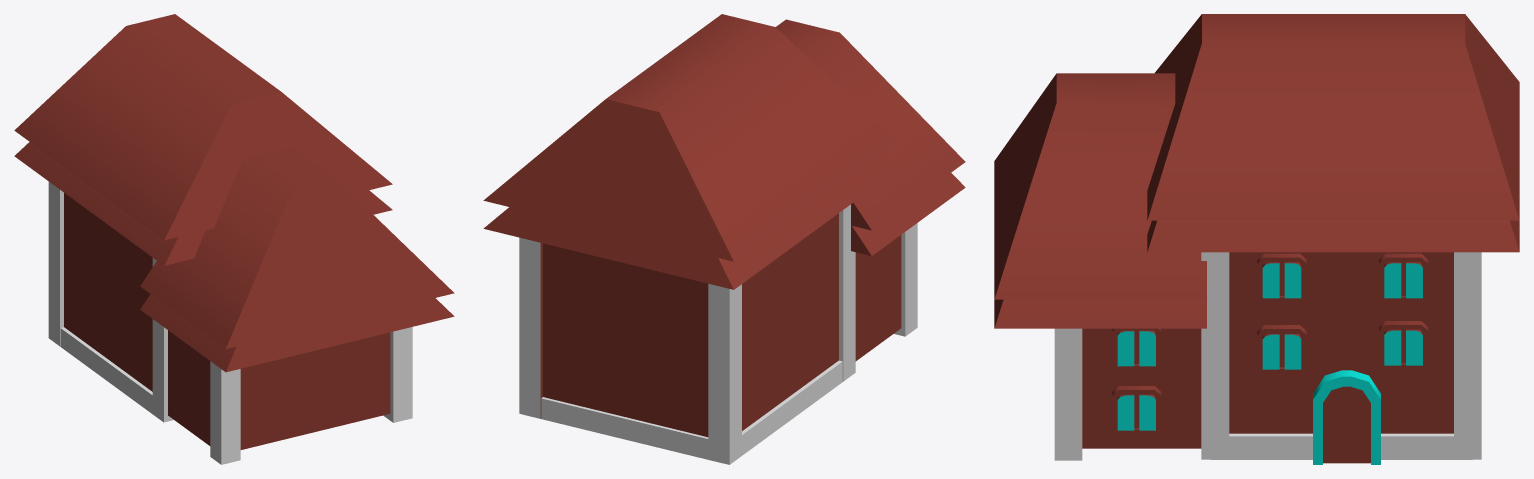
The model's file is housetype1.fbx.
3 renders of one model, left to right at view 1: azimuth 30°, elevation 25°; view 2: azimuth 150°, elevation 25°; view 3: azimuth 270°, elevation 25°, orthographic. The views are drawn at different scales.
Parts seen in each view (by area): view 1: Cube.068; view 2: Cube.068; view 3: Cube.068.
Part boxes in pixels (box(x1,y1,x2,y2)): Cube.068: box(14, 14, 454, 464); Cube.068: box(483, 14, 965, 464); Cube.068: box(994, 14, 1519, 464).
Size of the model in its own units: 2.51 by 3.17 by 4.03.
